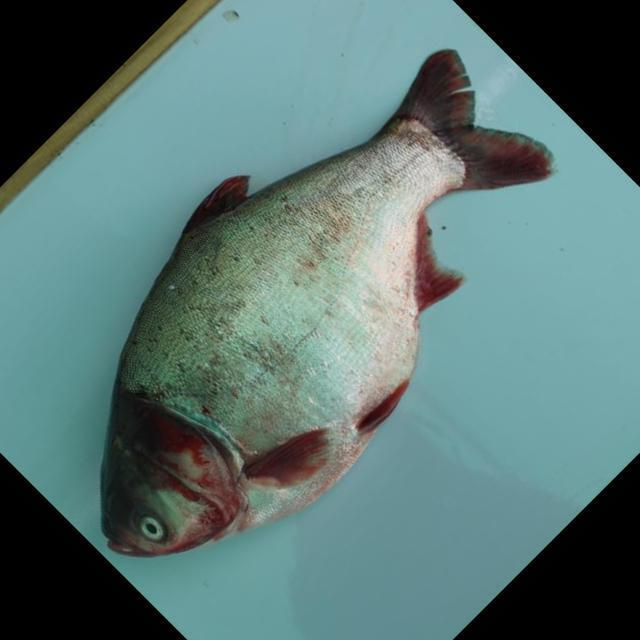Silver Carp: (74, 45, 569, 572)
